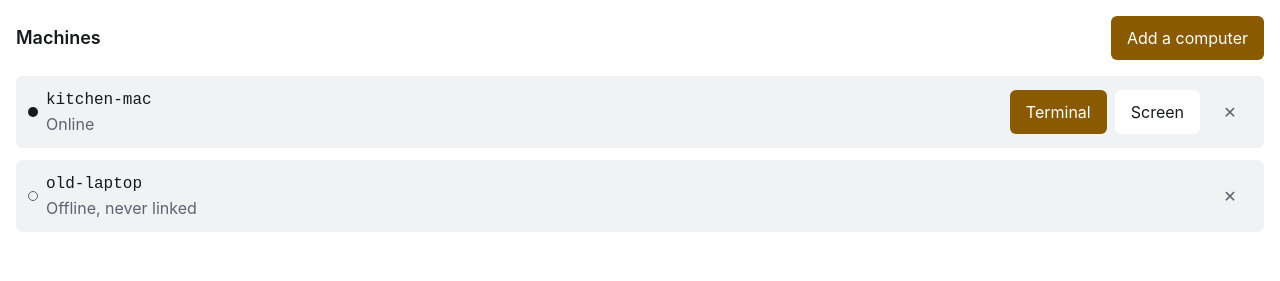
Test: Machines › removes a machine after a confirm
The image size is (1280, 281).
What coordinates should you click on to do the following:
click the button named "Remove old-laptop"
I would click on:
 (1230, 196)
Its box is [1208,174,1252,218].
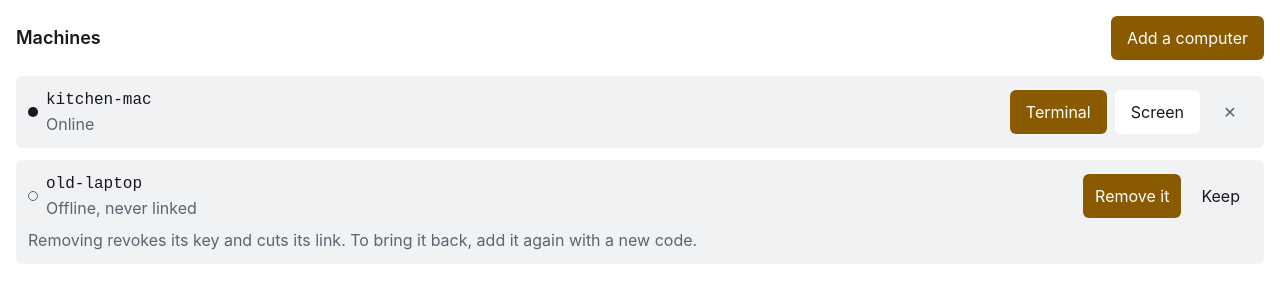
Expected: the text "revokes its key" is shown, [28,230,697,250]
What coordinates should you click on to do the following:
click the button with aria-label "Confirm remove old-laptop"
I would click on:
 (1132, 196)
Its box is [1083,174,1181,218].
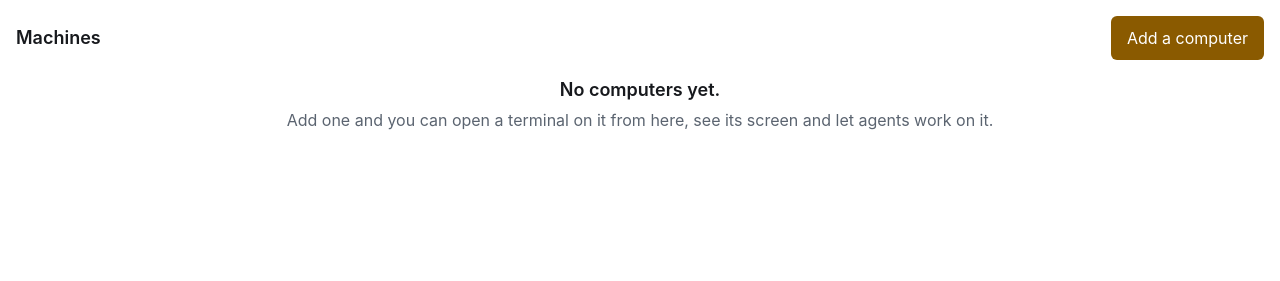
Expected: the heading "No computers yet." is shown, [560,76,720,104]
